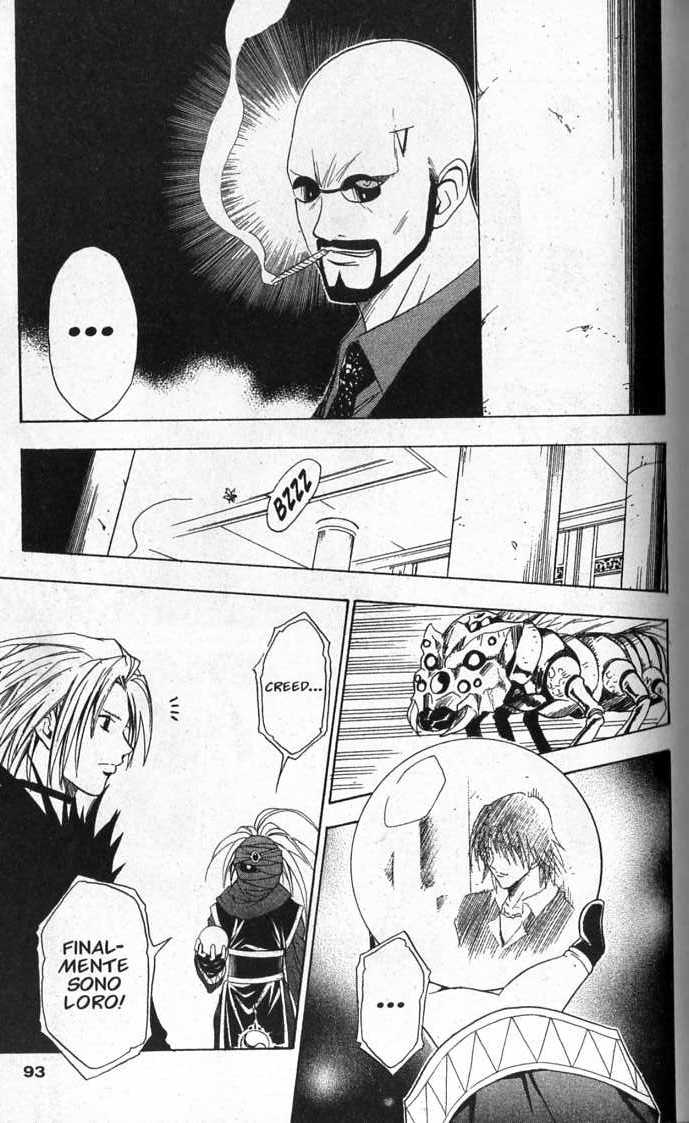Baloon: (35, 868, 167, 1080), (45, 242, 135, 423), (254, 614, 331, 797), (352, 930, 431, 1088)
Vignetta: (17, 2, 664, 418), (1, 576, 350, 1057), (292, 735, 689, 1121), (19, 443, 667, 600), (331, 595, 689, 809)
